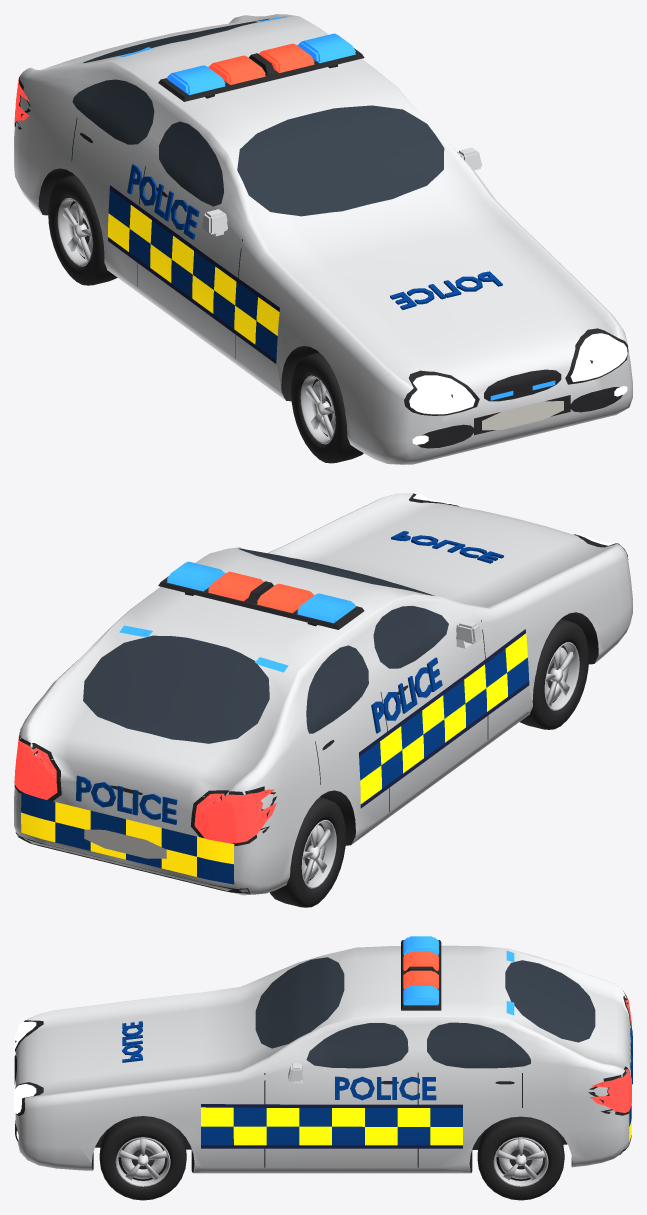
File: cruiser.glb
3 renders of one model, top to bottom at view 1: azimuth 30°, elevation 25°; view 2: azimuth 150°, elevation 25°; view 3: azimuth 270°, elevation 25°, orthographic. The views are drawn at different scales.
Parts seen in each view (by area): view 1: body, glass, trim, livery_blue, wheel_fr, wheel_rr, lights, livery_yellow, lightbar_blue, lightbar_red, livery_dark, plates (+1 smaller); view 2: body, glass, livery_blue, livery_yellow, trim, lights, wheel_rr, wheel_fr, lightbar_blue, lightbar_red, livery_dark, plates (+1 smaller); view 3: body, glass, livery_blue, wheel_fl, wheel_rl, livery_yellow, trim, livery_dark, lights, lightbar_blue, lightbar_red.
Boxes of the visible parts, box(x1,y1,x2,y2) form: body: box(14, 14, 632, 464); glass: box(72, 18, 444, 216); trim: box(14, 48, 628, 448); livery_blue: box(108, 164, 502, 359); wheel_fr: box(291, 352, 363, 463); wheel_rr: box(48, 175, 117, 285); lights: box(14, 76, 627, 444); livery_yellow: box(108, 205, 279, 344); lightbar_blue: box(167, 33, 355, 94); lightbar_red: box(208, 43, 314, 84); livery_dark: box(108, 185, 279, 363); plates: box(482, 401, 563, 430); body: box(14, 493, 632, 895); glass: box(83, 548, 448, 743); livery_blue: box(21, 531, 529, 884); livery_yellow: box(21, 633, 527, 876); trim: box(14, 493, 628, 893); lights: box(14, 493, 624, 843); wheel_rr: box(270, 797, 345, 907); wheel_fr: box(520, 619, 588, 729); lightbar_blue: box(167, 561, 355, 623); lightbar_red: box(208, 571, 314, 613); livery_dark: box(359, 629, 529, 808); plates: box(84, 829, 166, 858); body: box(15, 945, 630, 1173); glass: box(255, 957, 595, 1068); livery_blue: box(122, 1021, 632, 1145); wheel_fl: box(99, 1116, 186, 1200); wheel_rl: box(477, 1116, 564, 1200); livery_yellow: box(201, 1107, 631, 1145); trim: box(14, 940, 631, 1172); livery_dark: box(201, 1104, 462, 1148); lights: box(14, 993, 631, 1139); lightbar_blue: box(403, 936, 438, 1005); lightbar_red: box(403, 952, 438, 989).
Bounding box in the file's own units: 1.7 × 1.43 × 4.28.
